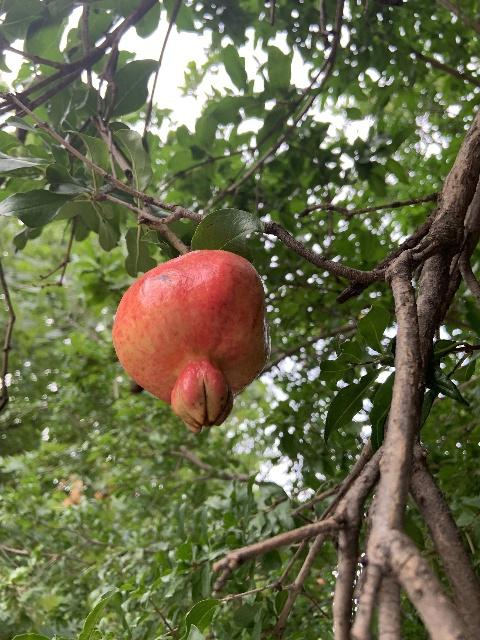ripe: (111, 248, 269, 434)
